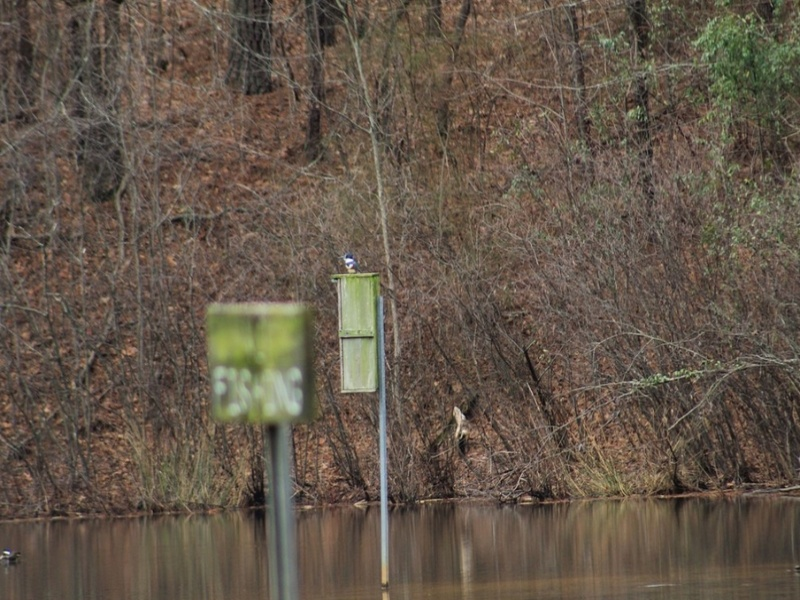kingfisher: (342, 254, 358, 273)
